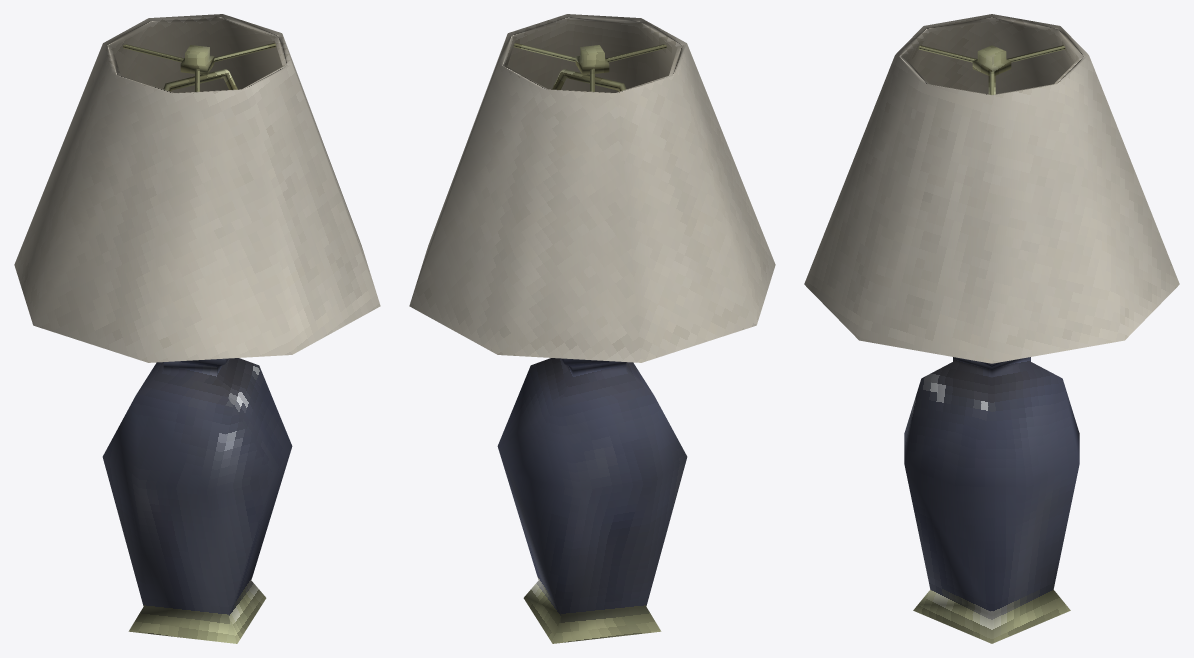
The model's file is retro_lowpoly_lamp.glb.
3 renders of one model, left to right at view 1: azimuth 30°, elevation 25°; view 2: azimuth 150°, elevation 25°; view 3: azimuth 270°, elevation 25°, orthographic.
Visible parts, largest first — view 1: LampLow_0; view 2: LampLow_0; view 3: LampLow_0.
Part boxes in pixels (box(x1,y1,x2,y2)): LampLow_0: box(14, 14, 380, 643); LampLow_0: box(409, 14, 775, 643); LampLow_0: box(804, 14, 1179, 643).
Size of the model in its own units: 0.4523 by 0.7429 by 0.4523.
1 material, 1 textured.
